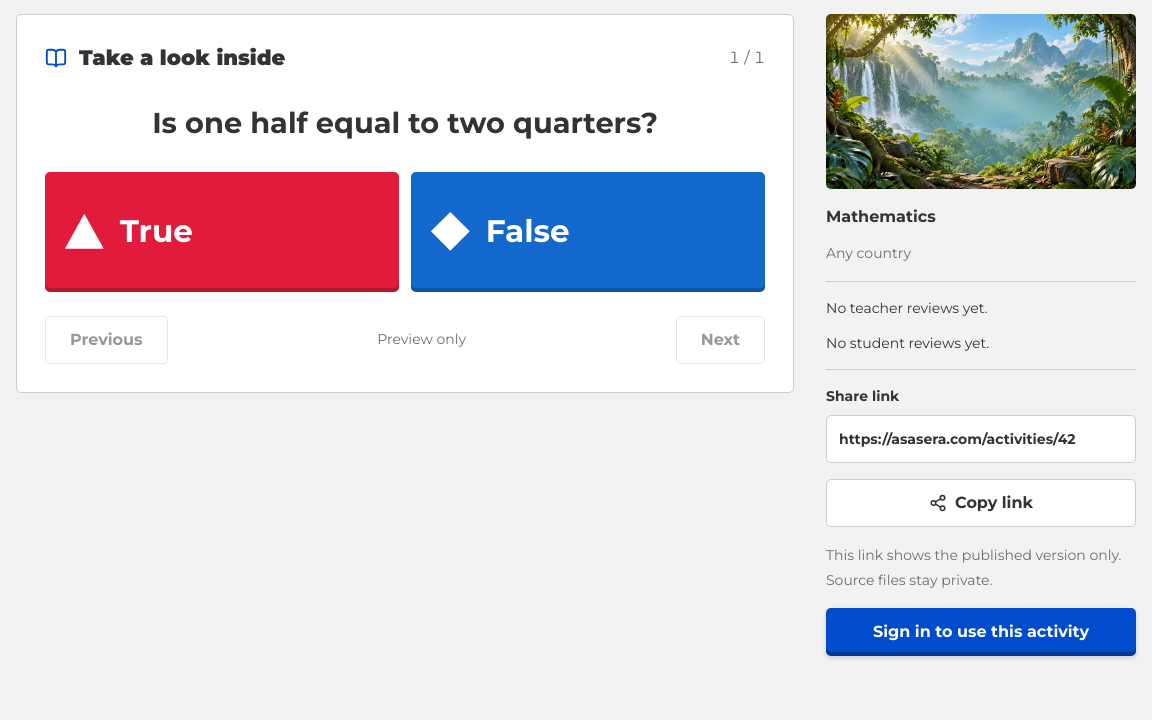
it: keeps the canonical share URL available when clipboard access fails
(page scrolled)
Click the button "Copy link": (981, 503) [826, 479, 1136, 527]
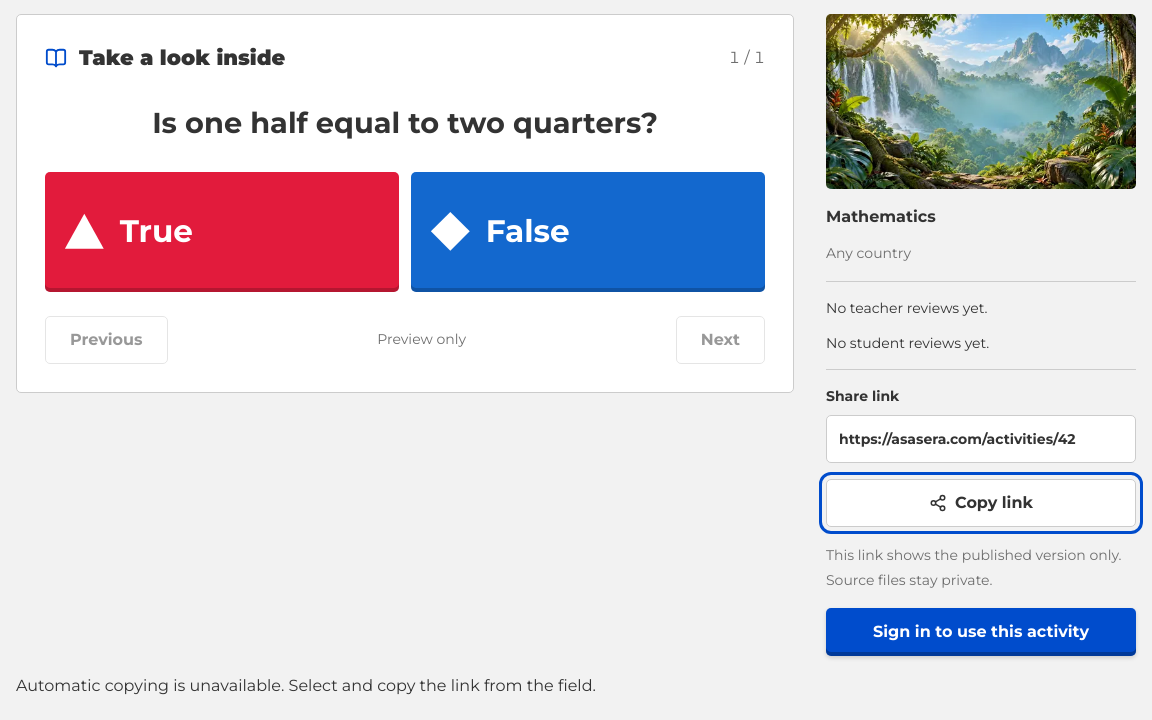
expect the field labelled "Share link" holds "https://asasera.com/activities/42": met, box [826, 415, 1136, 463]
expect the message shows "Automatic copying is unavailable": met, box [16, 676, 596, 695]
